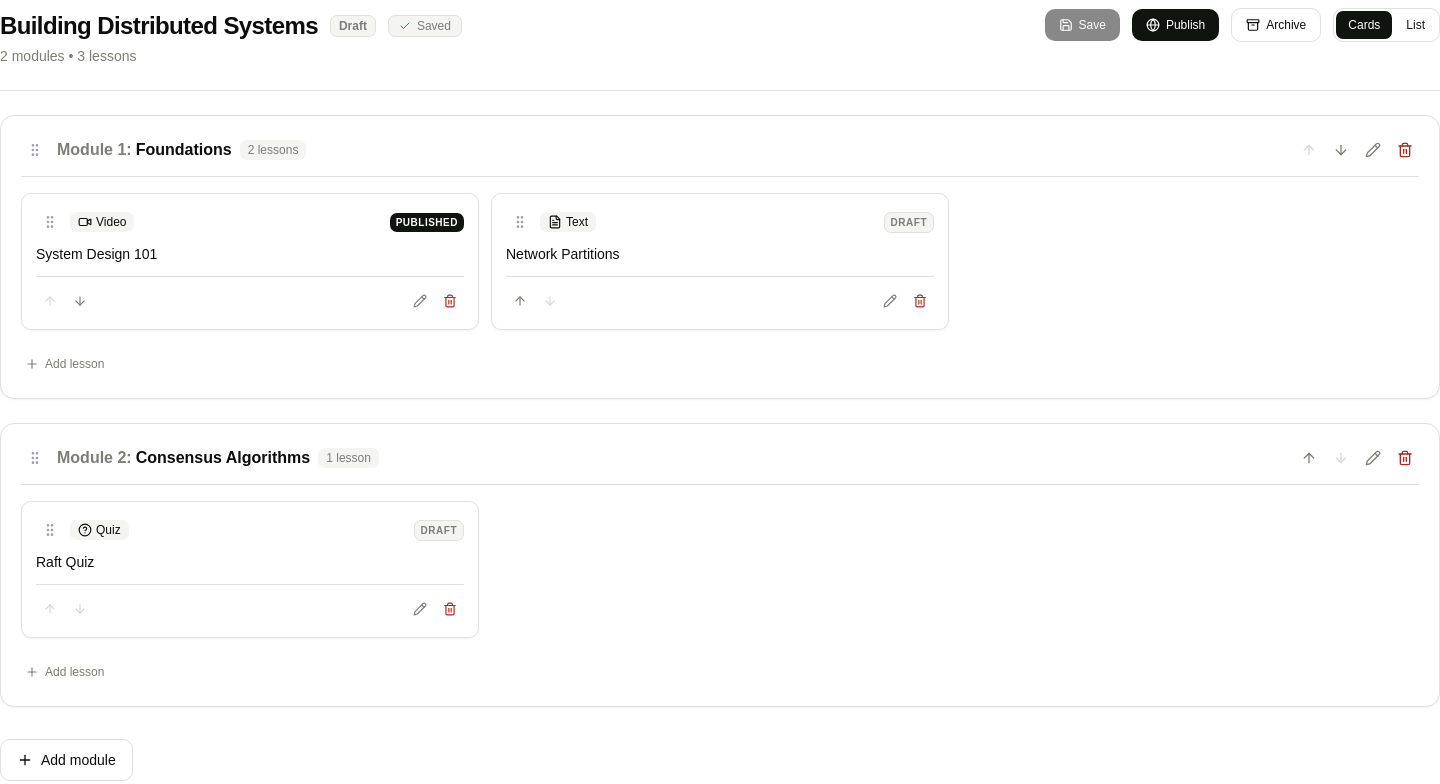
Test: CourseOutlineBuilder › displays and dismisses error alert when action throws
Click the button "Add module" at {"x": 66, "y": 760}, box [0,739,133,781]
(page scrolled)
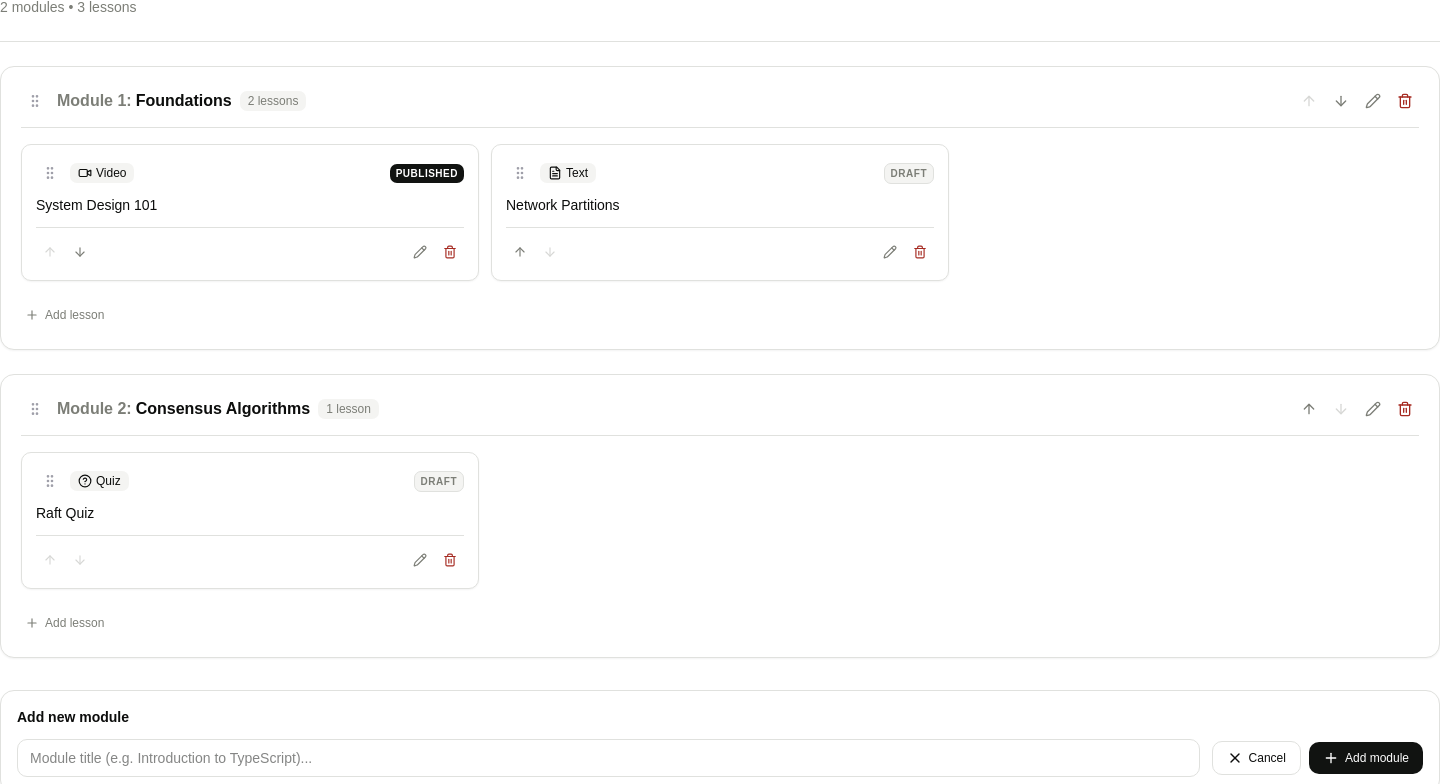
Type "Fault Tolerance" into the field named "New module title" at {"x": 608, "y": 758}, box [17,739,1200,777]
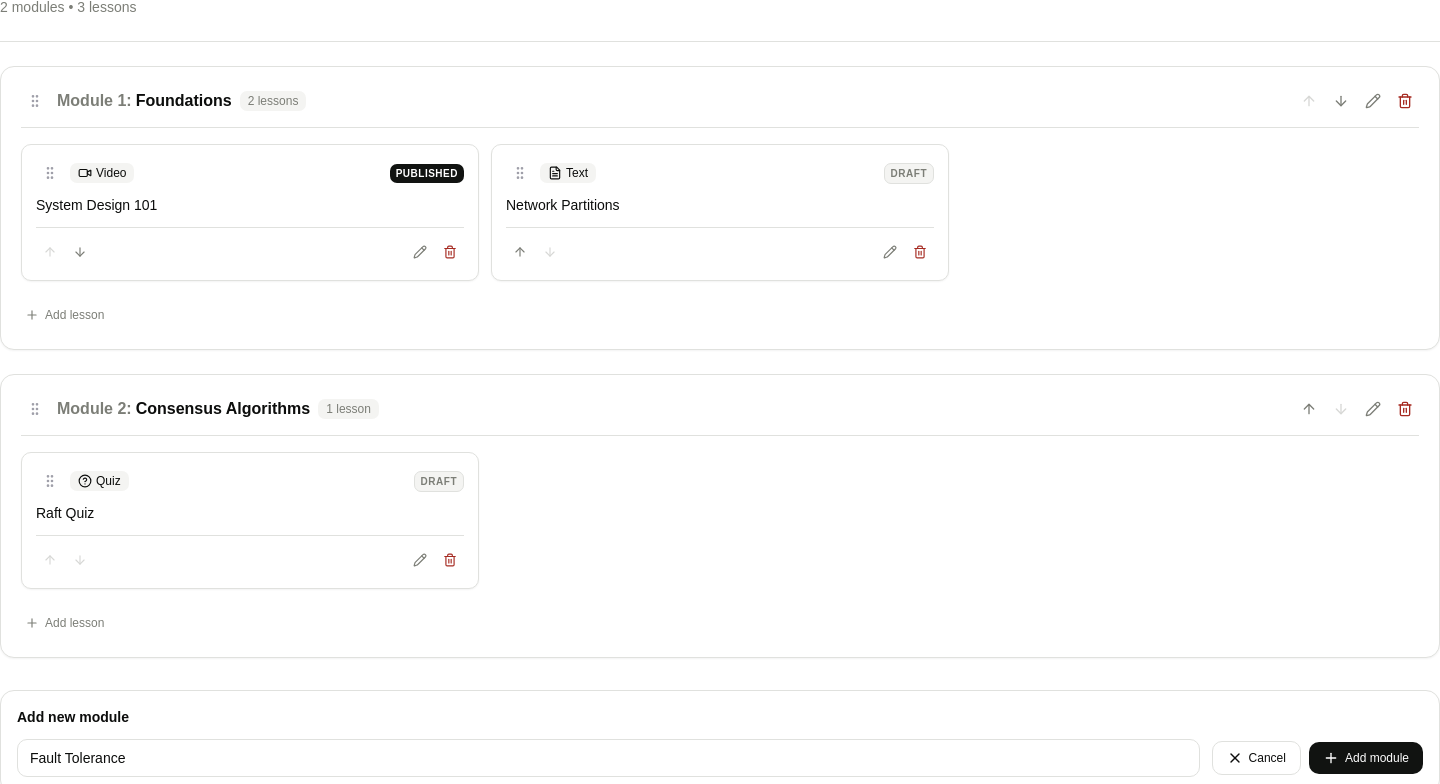
Click the button "Add module" at {"x": 1366, "y": 758}, box [1309,742,1423,774]
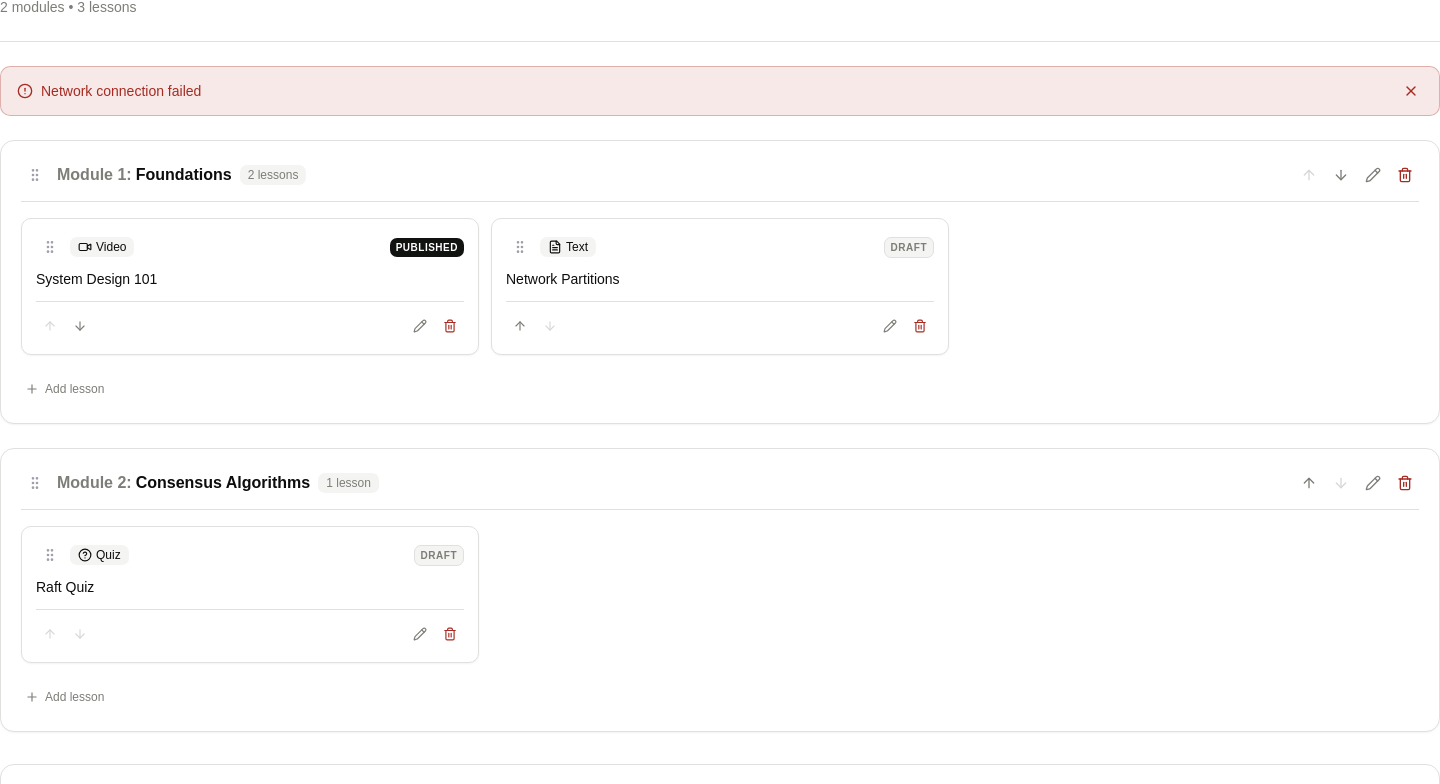
Now the message "Network connection failed" is shown, box [0,66,1439,116]
Click the button named "Dismiss error" at {"x": 1411, "y": 91}, box [1399,79,1423,103]
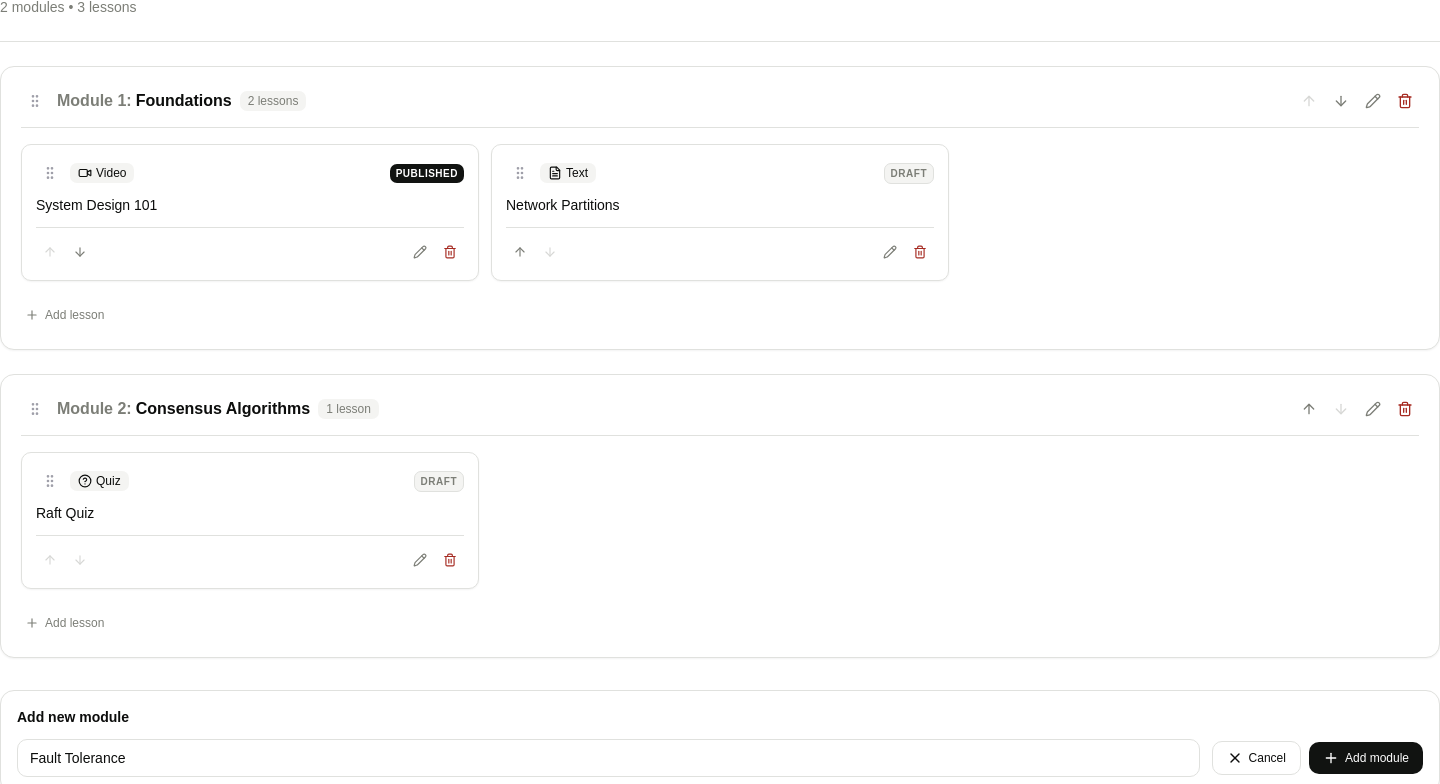
Now the message "Network connection failed" is gone
